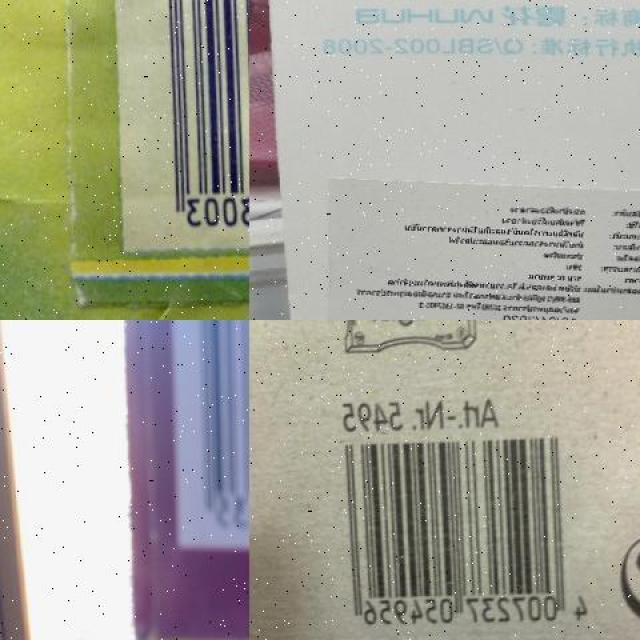Barcode: (327, 429, 594, 639), (109, 0, 249, 249), (164, 320, 249, 545)
